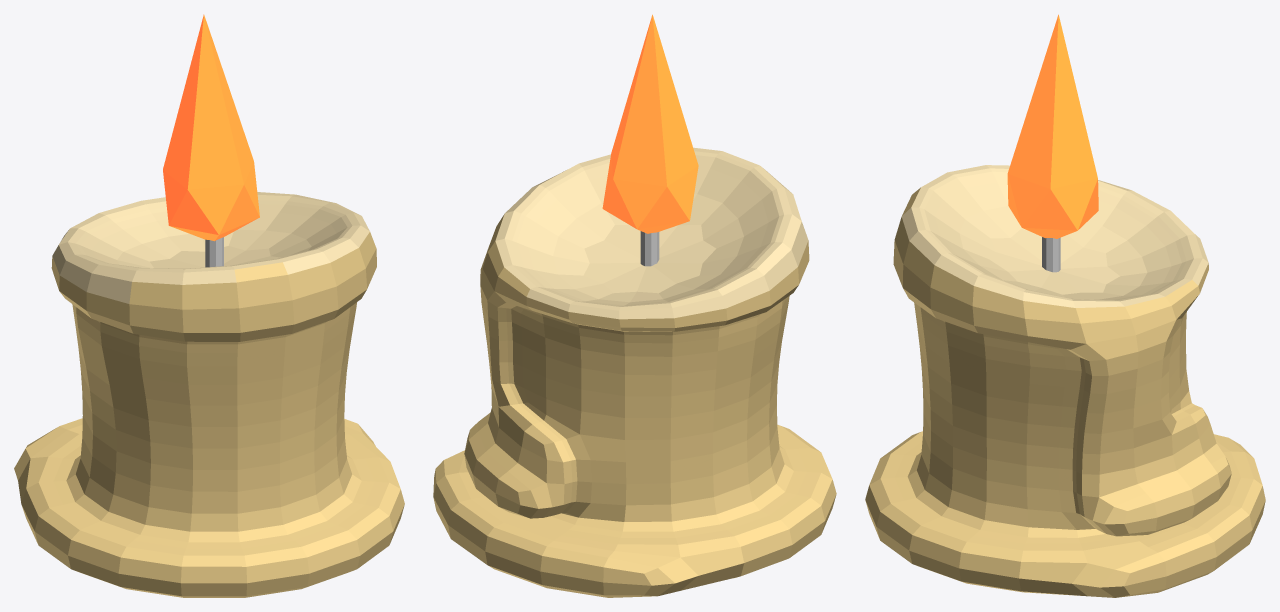
Rendered from candle-3d.glb.
3 views of the same model, side by side, from view 1: azimuth 30°, elevation 25°; view 2: azimuth 150°, elevation 25°; view 3: azimuth 270°, elevation 25° (orthographic).
Visible parts, largest first — view 1: Cylinder, Icosphere.001, Cylinder.001; view 2: Cylinder, Icosphere.001, Cylinder.001; view 3: Cylinder, Icosphere.001, Cylinder.001.
Part boxes in pixels (x1,y1,x2,y2): Cylinder: (14, 192, 404, 597); Icosphere.001: (163, 14, 259, 241); Cylinder.001: (205, 237, 223, 267); Cylinder: (433, 147, 836, 597); Icosphere.001: (602, 14, 698, 233); Cylinder.001: (640, 231, 659, 266); Cylinder: (865, 165, 1265, 597); Icosphere.001: (1007, 14, 1098, 238); Cylinder.001: (1042, 237, 1060, 272).
Size of the model in its own units: 0.4092 by 0.5783 by 0.4166.
